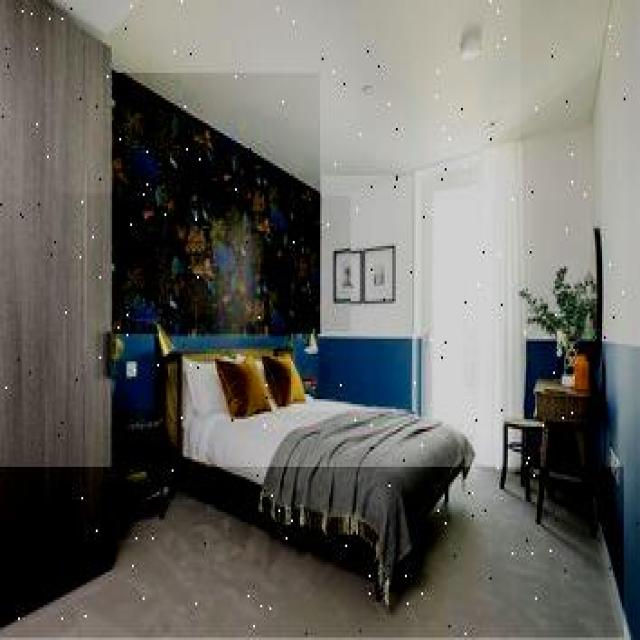Wall: (55, 1, 609, 193), (0, 467, 624, 637), (522, 0, 640, 637), (115, 74, 320, 334), (323, 177, 412, 334), (292, 336, 418, 412), (320, 198, 351, 331), (114, 336, 157, 414), (524, 324, 560, 414), (173, 339, 289, 351)
